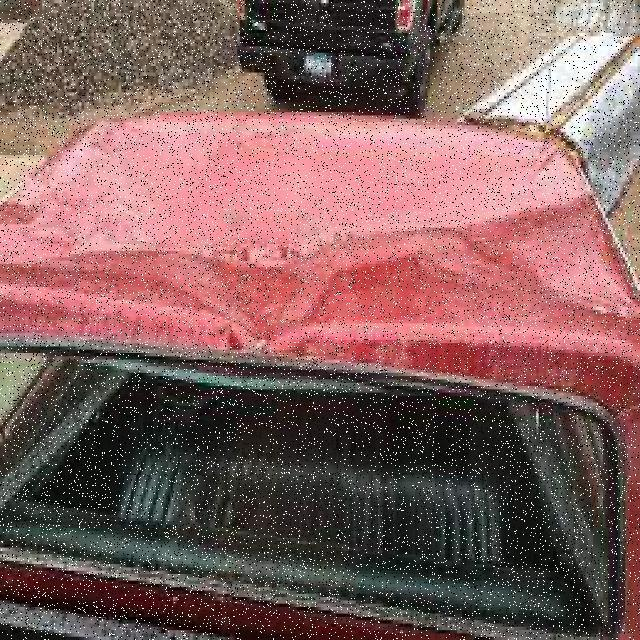roof-dent: (10, 119, 638, 419)
